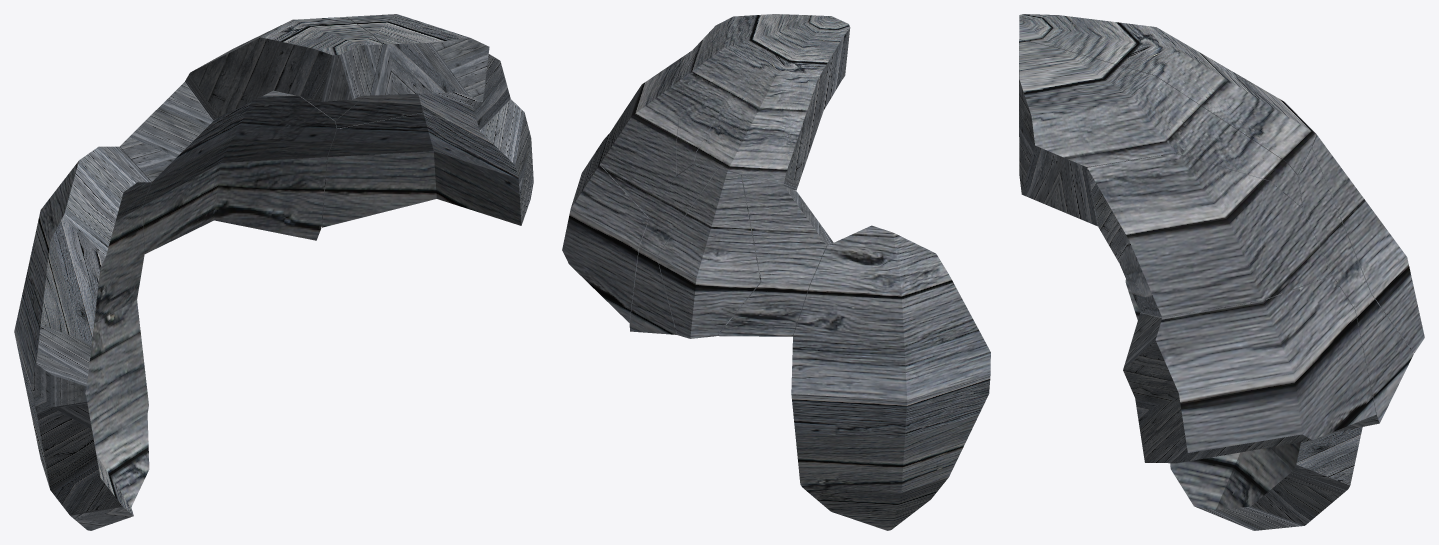
The model's file is Fracture004.dae.
The picture shows the model from 3 angles, left to right: view 1: azimuth 30°, elevation 25°; view 2: azimuth 150°, elevation 25°; view 3: azimuth 270°, elevation 25°; orthographic projection. The views are drawn at different scales.
Visible parts, largest first — view 1: Sphere_001_cell_043; view 2: Sphere_001_cell_043; view 3: Sphere_001_cell_043.
Part boxes in pixels (bbox=[...]): Sphere_001_cell_043: bbox=[14, 14, 533, 530]; Sphere_001_cell_043: bbox=[562, 14, 990, 530]; Sphere_001_cell_043: bbox=[1019, 14, 1424, 530].
Size of the model in its own units: 1.93 by 1.14 by 1.88.
